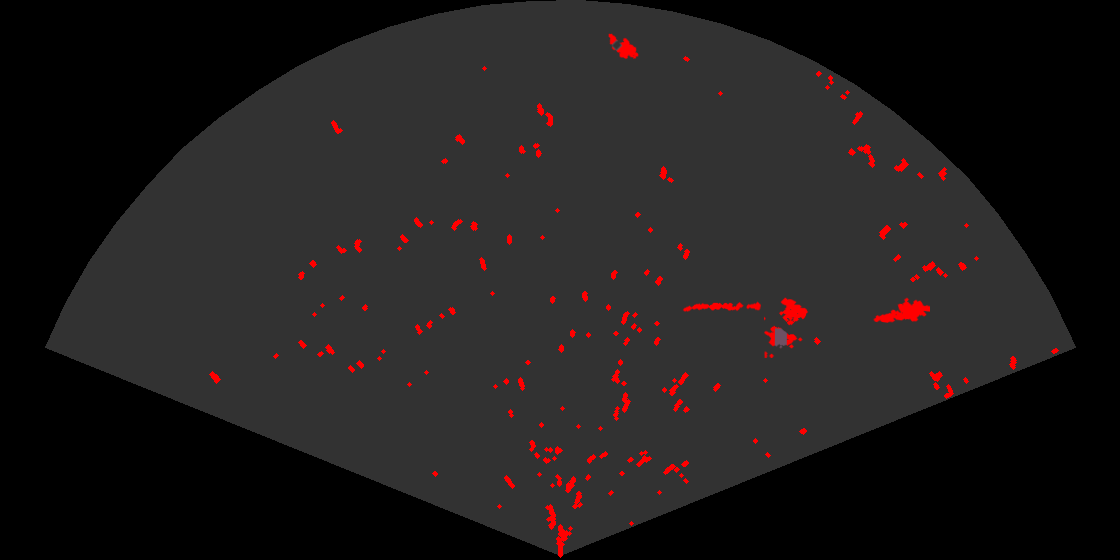AUV: (607, 32, 640, 61)
cage: (764, 296, 810, 358)
chain: (681, 300, 761, 313)
frogman: (871, 296, 930, 324)
